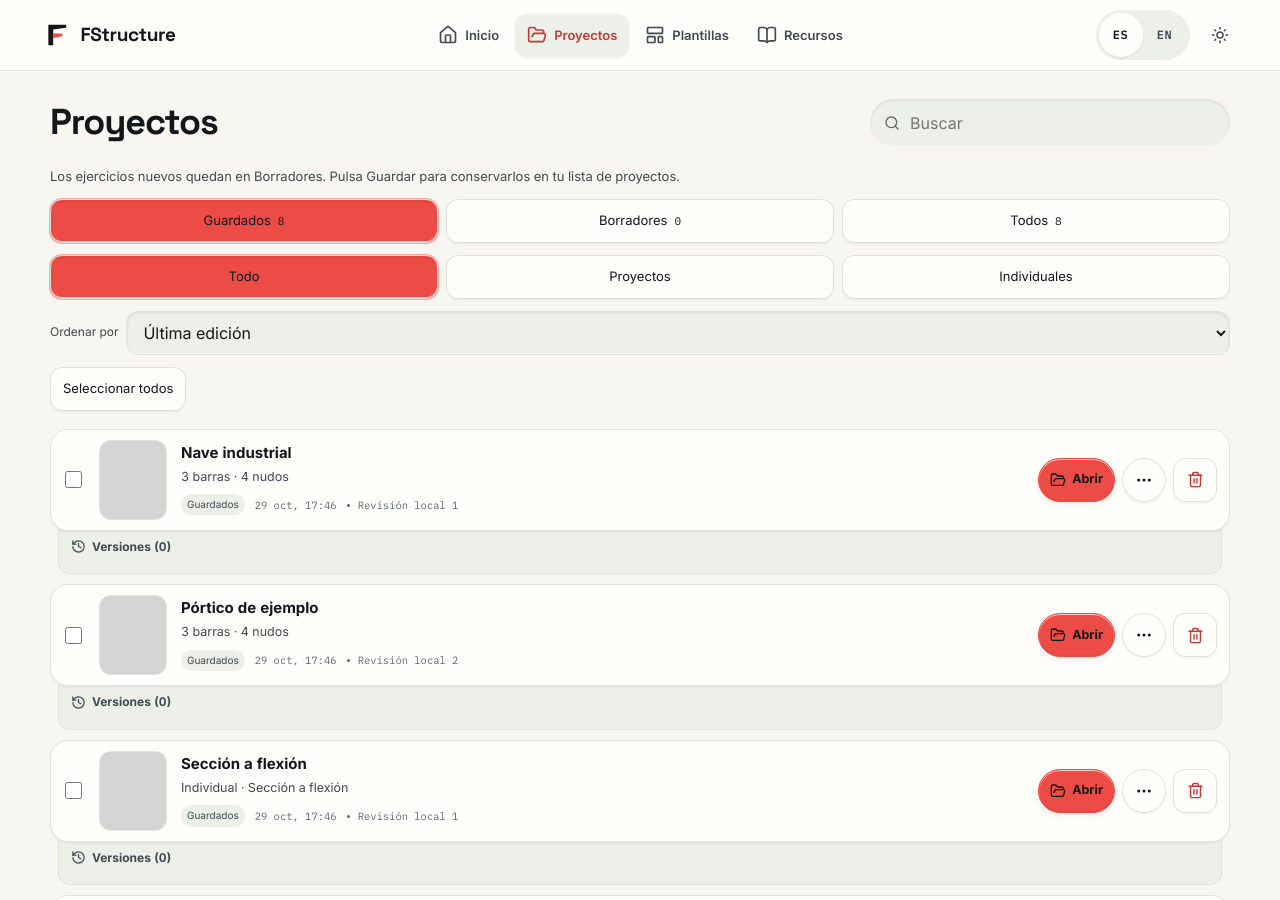
Test: HomePage Proyectos: búsqueda sin coincidencias › dice que ningún proyecto coincide y «Limpiar filtros» borra la búsqueda y restaura la lista
Expected: the text "Nave industrial" is shown, x1=181 y1=443 x2=292 y2=462
Expected: the button "Limpiar filtros" is not shown
Type "puente" into the search field labelled "Buscar".
click(1066, 123); type("puente")  # box x1=908 y1=112 x2=1224 y2=134
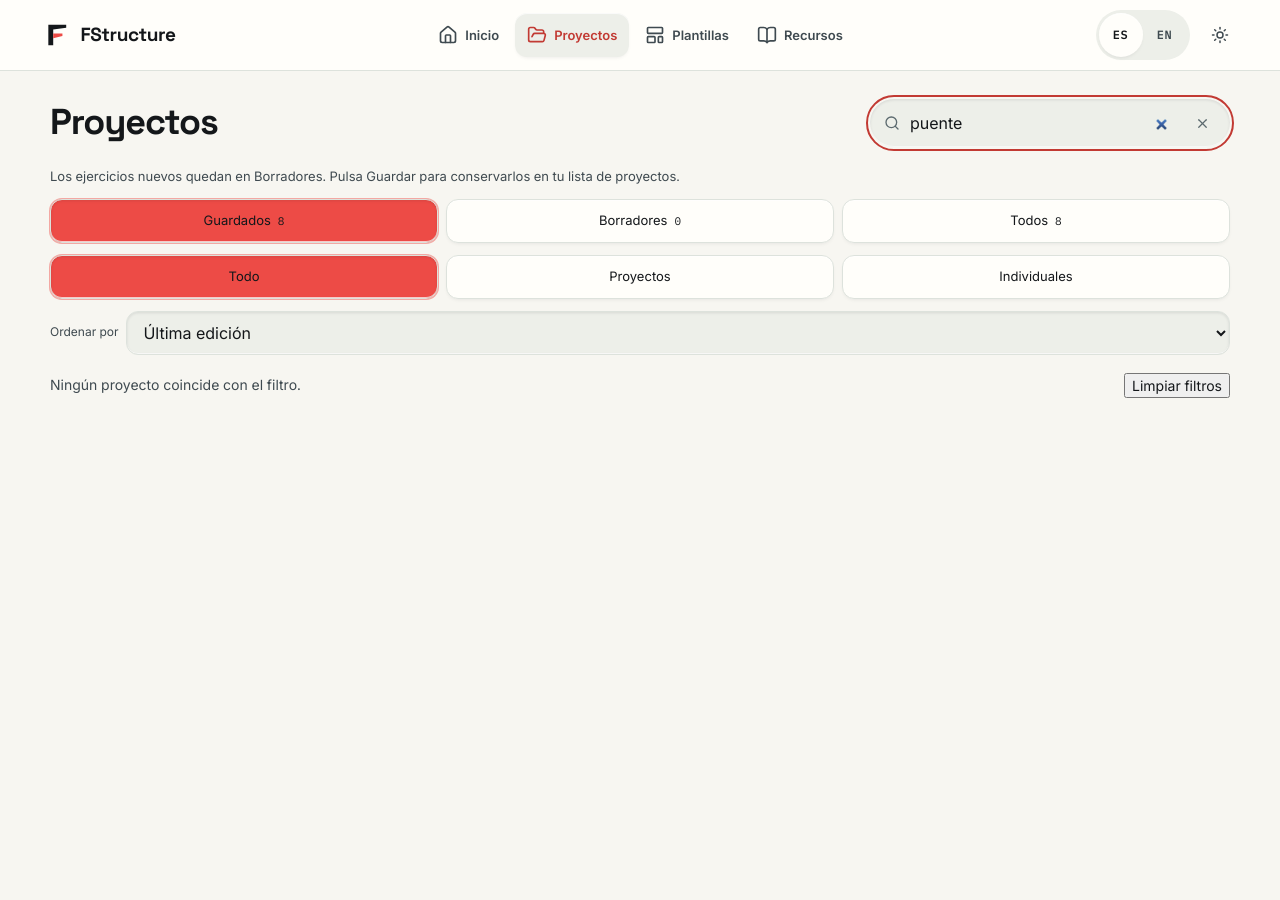
Expected: the text "Ningún proyecto coincide con el filtro." is shown, x1=50 y1=374 x2=301 y2=396
Click the button "Limpiar filtros".
click(1177, 385)  # box x1=1124 y1=372 x2=1230 y2=398
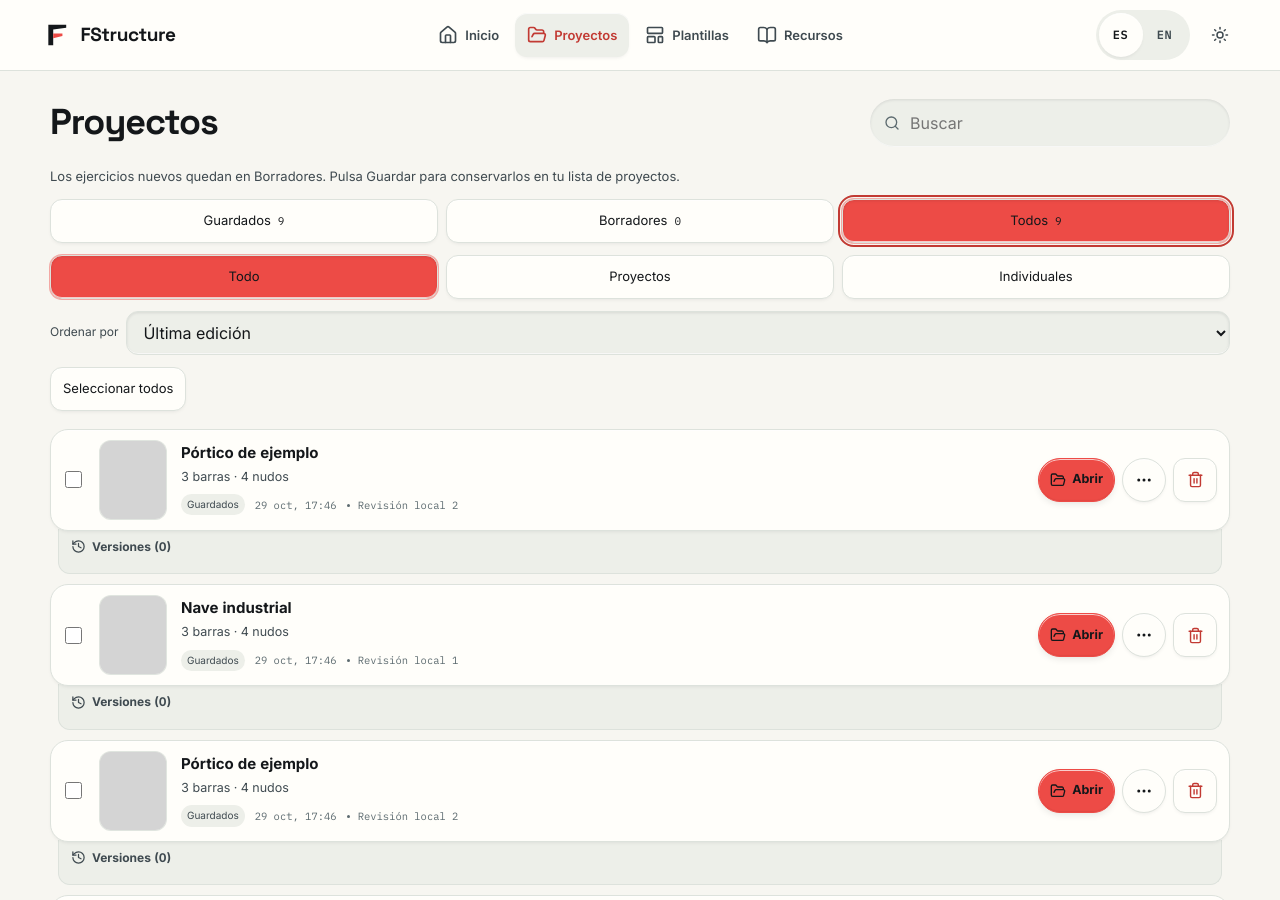
Expected: the search field labelled "Buscar" is empty, x1=908 y1=112 x2=1224 y2=134
Expected: the text "Nave industrial" is shown, x1=181 y1=598 x2=292 y2=617
Expected: the text "Ningún proyecto coincide con el filtro." is gone
